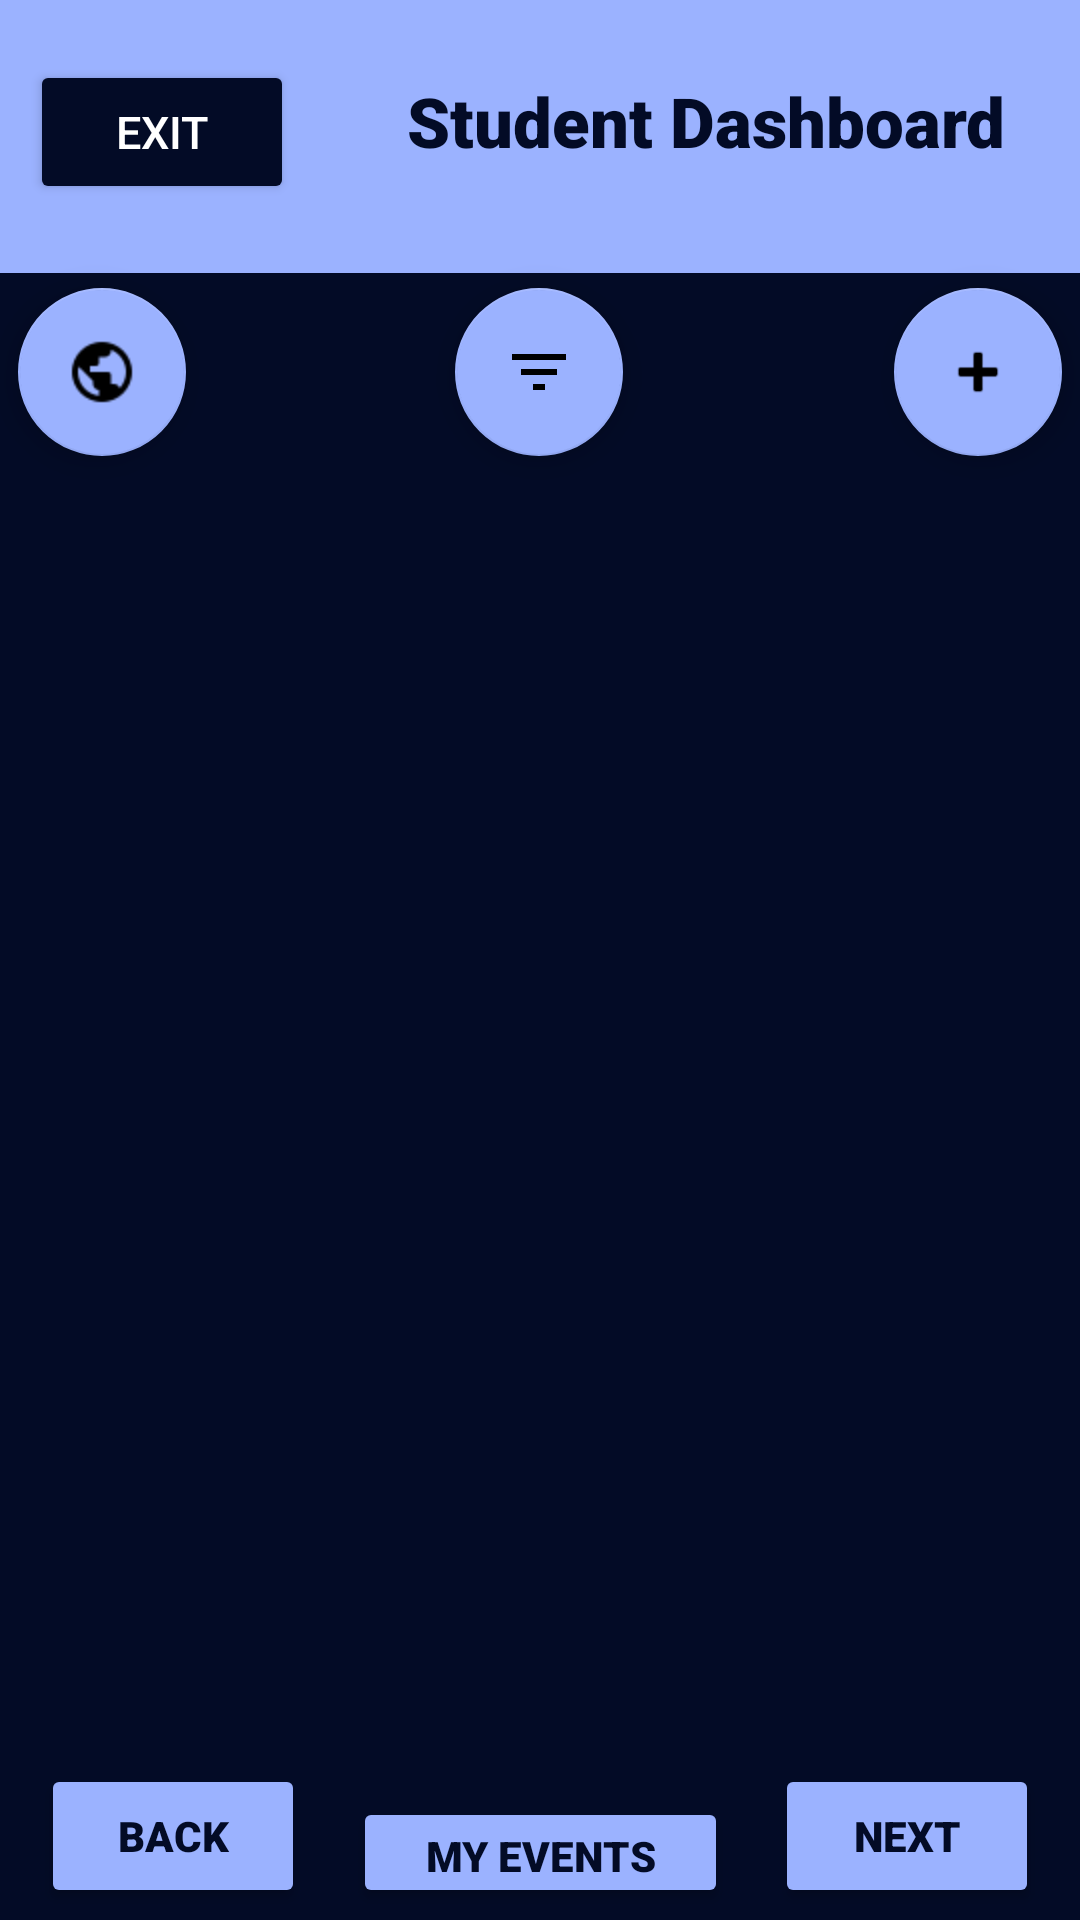

Icon click points for this 1080x1920 phone screenshot, format point (x, y):
add: point (978, 372)
earth: point (102, 372)
filtericon: point (539, 372)
